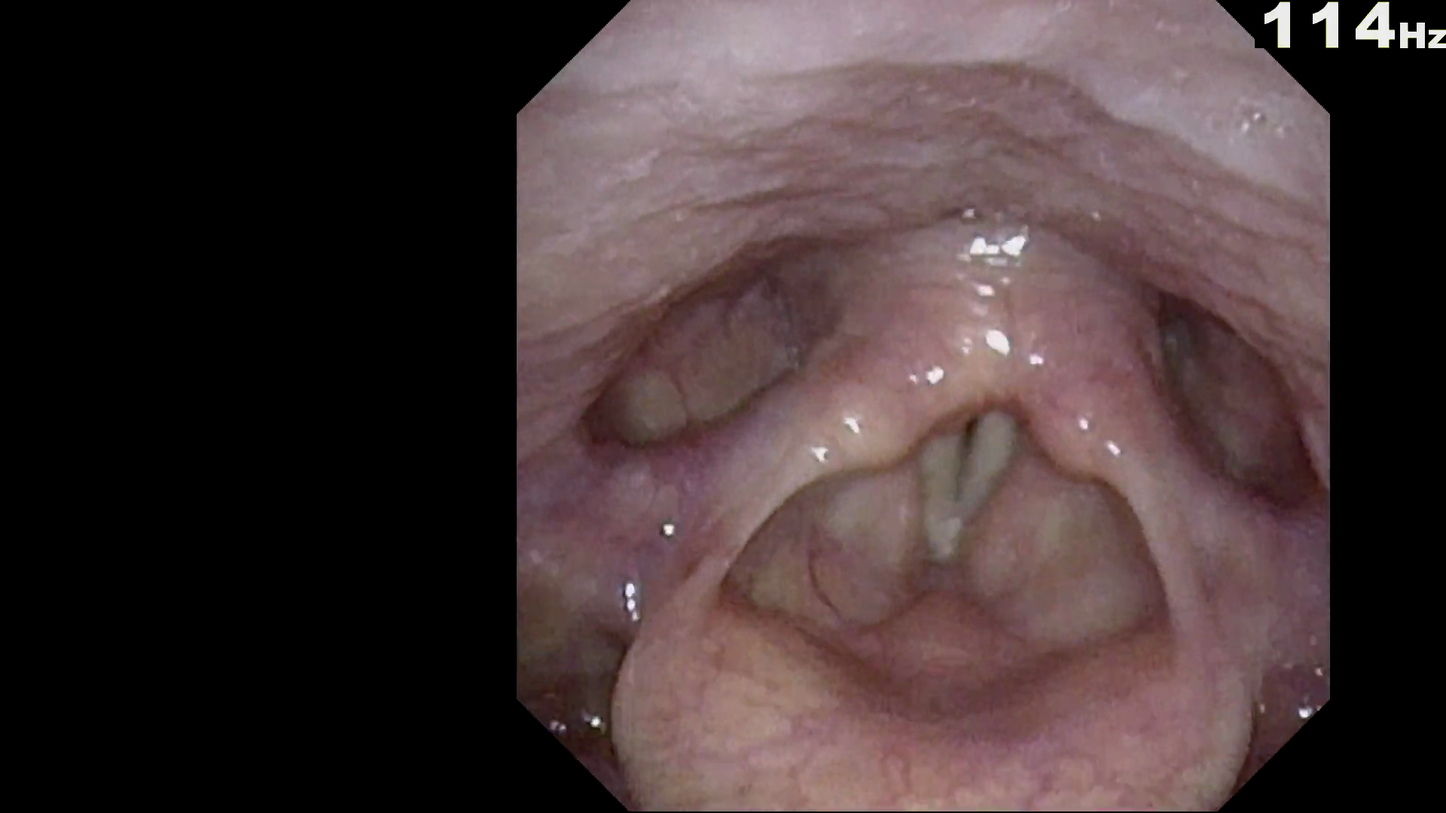epiglottis: (590, 503, 1261, 756)
trachea: (871, 356, 1050, 581)
